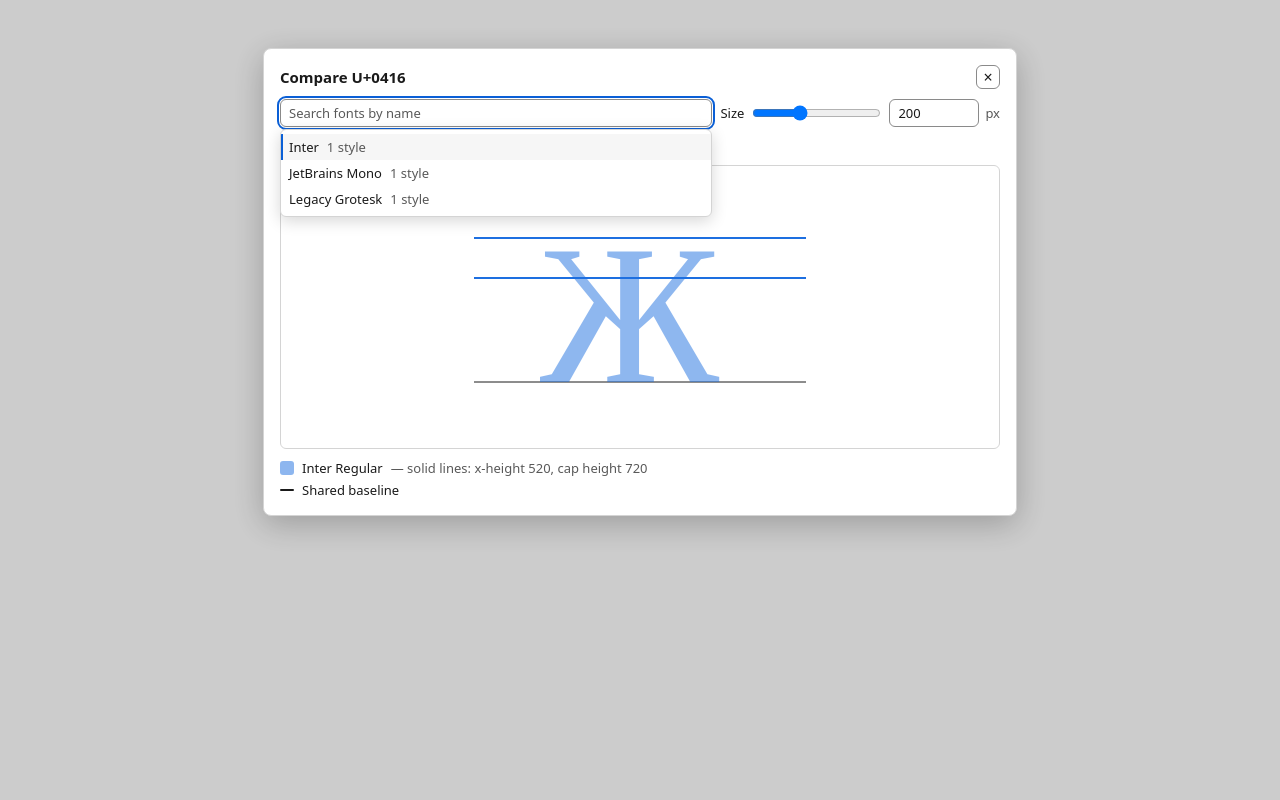
it: glyph compare overlay › draws both glyphs at one size on one baseline, at 50% opacity, with a legend
Type "JetBrains Mono" into the dropdown with placeholder "Search fonts by name" at [496, 113], box [280,99,712,127]
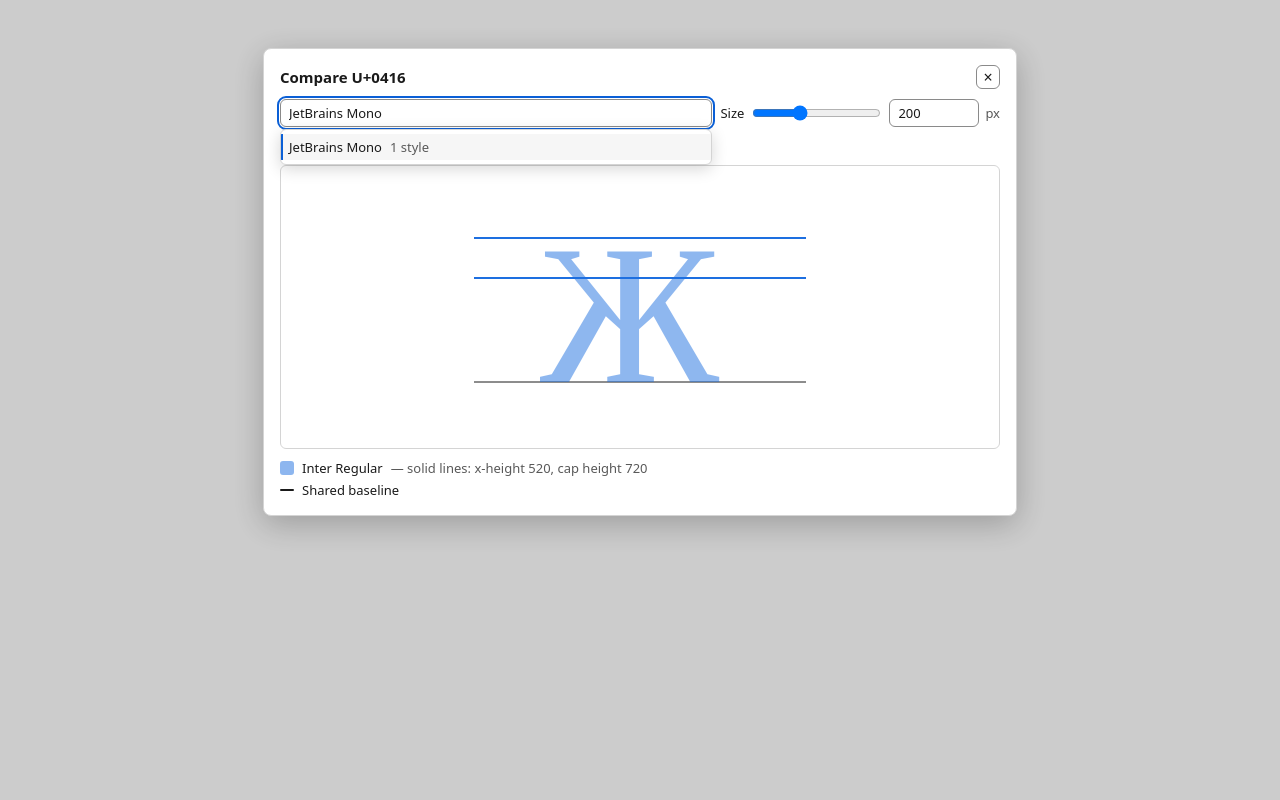
Press Enter in the dropdown named "Compare with font", box [280,99,712,127]
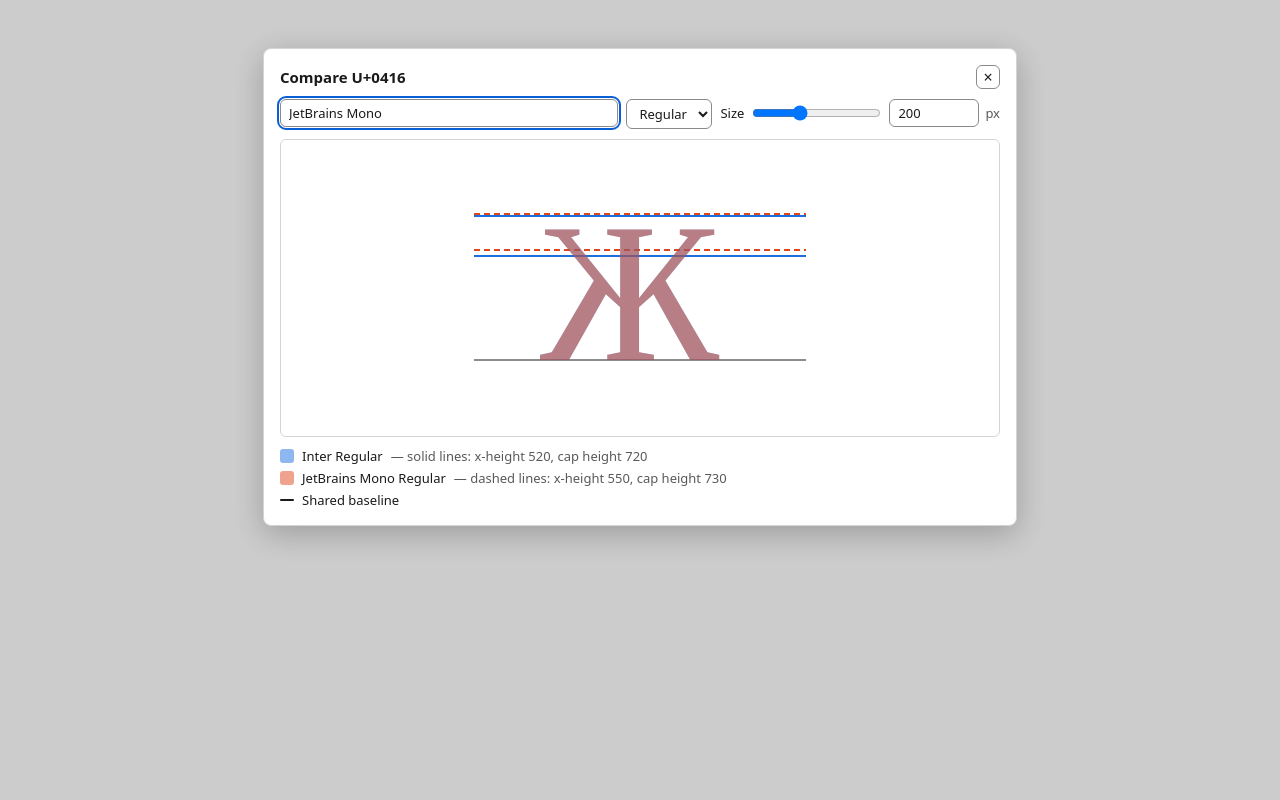
Check: the list named "Legend" shows "Inter Regular", box [302,447,383,465]
Check: the list named "Legend" shows "JetBrains Mono Regular", box [302,469,446,487]
Check: the list named "Legend" shows "x-height 550, cap height 730", box [454,469,727,487]
